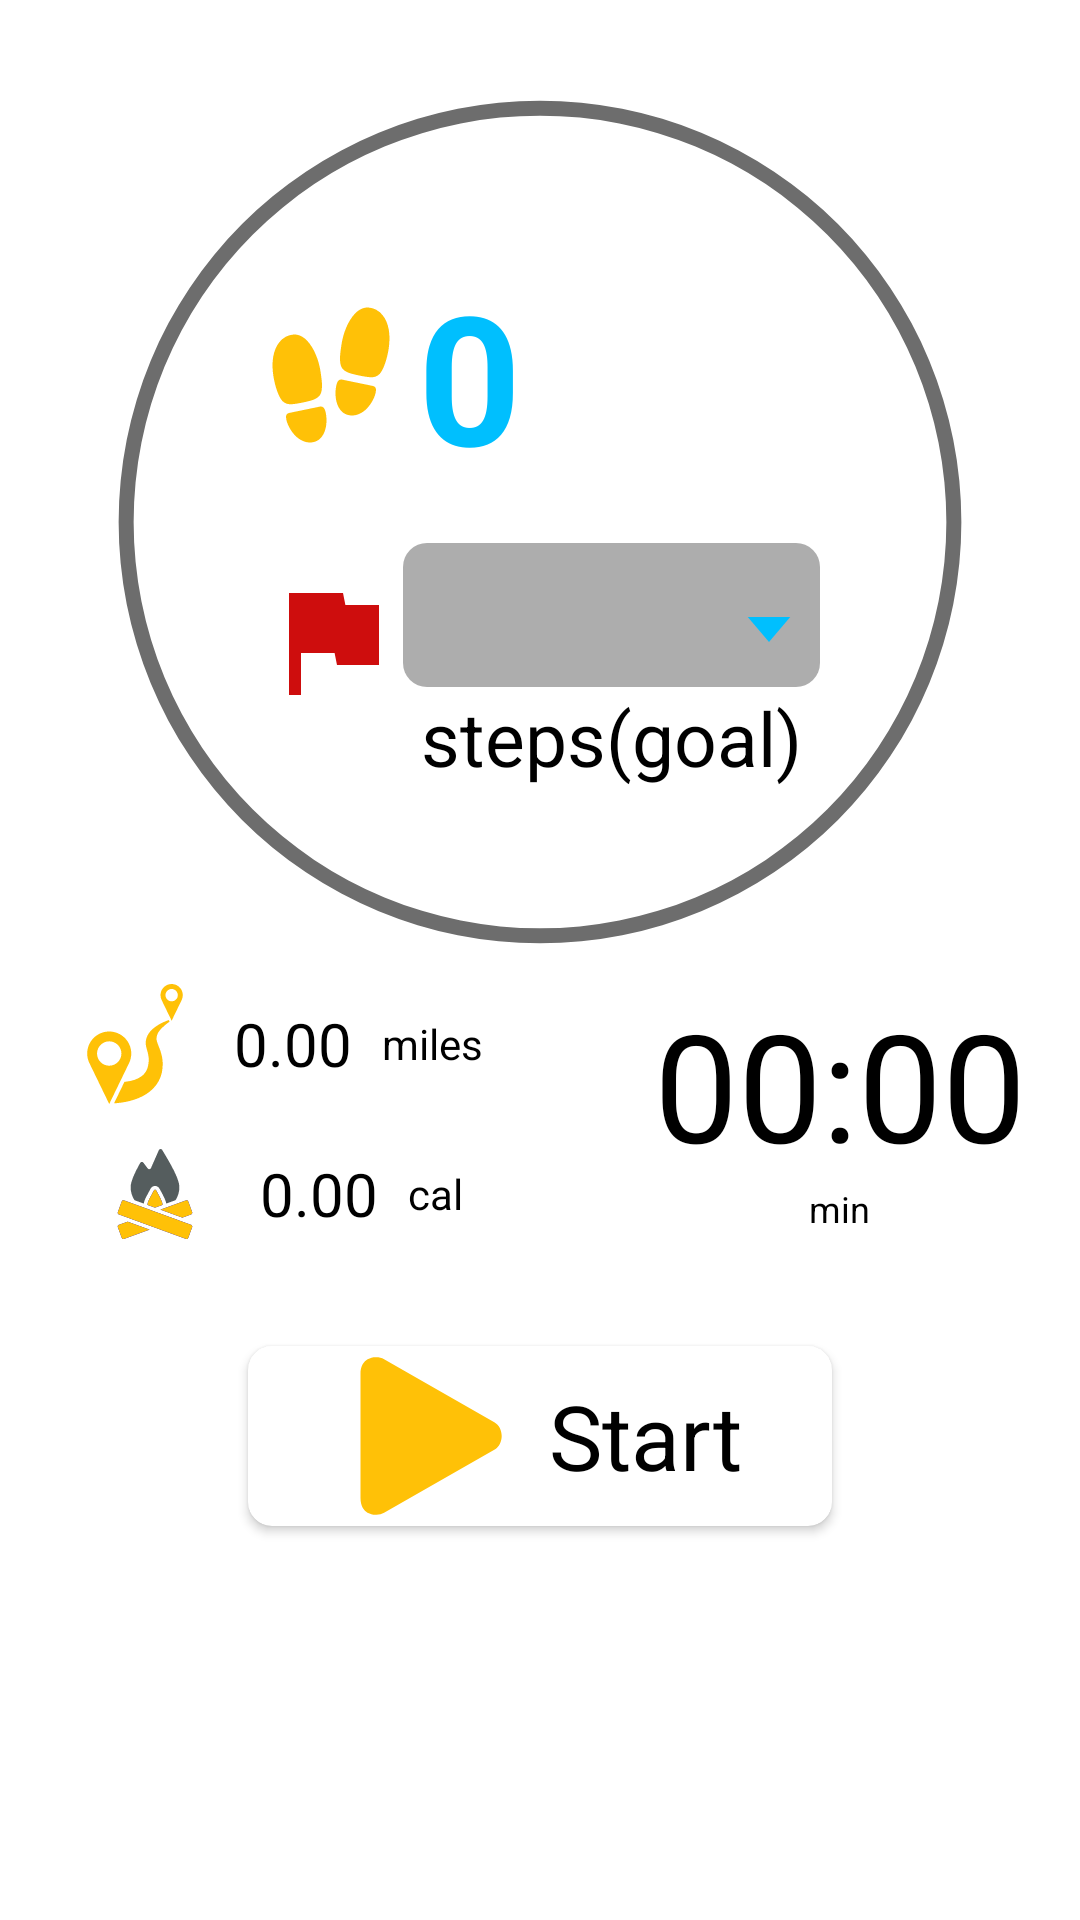

Screen size 1080 × 1920. Icon name, then its box in pixels as box=[x1, y1, x2, y2]:
calories icon: box=[117, 1149, 193, 1239]
distance icon: box=[87, 984, 183, 1104]
pause resume: box=[360, 1357, 502, 1515]
steps icon: box=[272, 307, 390, 443]
